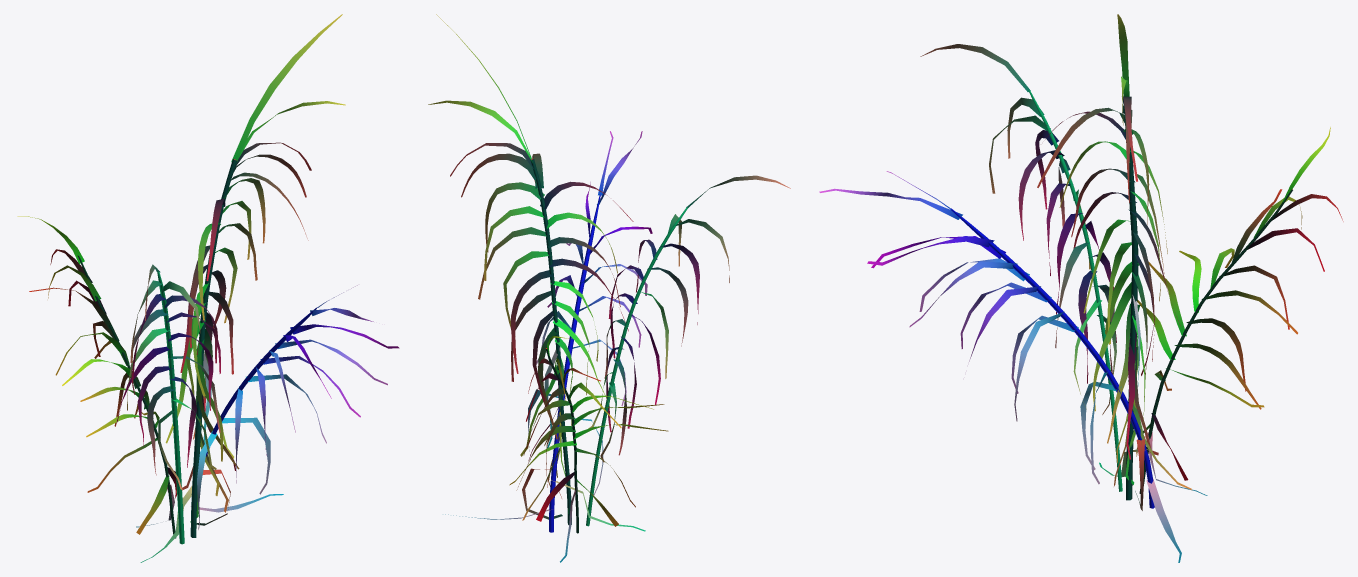
Rendered from Giant_Reed_sjllX_Mid_sjllX_VarB_LOD0.fbx.
3 renders of one model, left to right at view 1: azimuth 30°, elevation 25°; view 2: azimuth 150°, elevation 25°; view 3: azimuth 270°, elevation 25°, orthographic. The views are drawn at different scales.
Visible parts, largest first — view 1: _5570_VarB_LOD1; view 2: _5570_VarB_LOD1; view 3: _5570_VarB_LOD1.
Boxes of the visible parts, box(x1,y1,x2,y2) form: _5570_VarB_LOD1: box(17, 14, 399, 562); _5570_VarB_LOD1: box(428, 14, 790, 562); _5570_VarB_LOD1: box(819, 14, 1343, 562).
Size of the model in its own units: 124 by 205 by 169.
